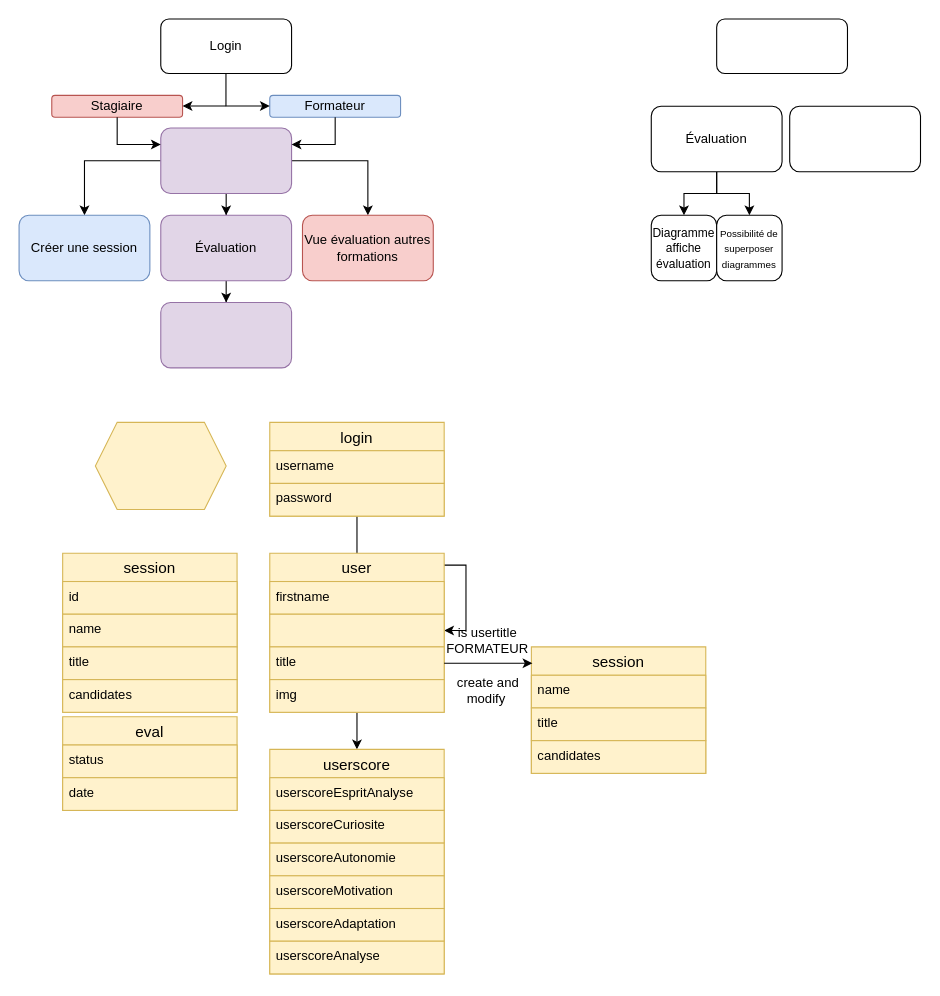
Some shapes in this 940 by 996 pixel diagram are drawn without their labels. The shapes that lost their labels are listed below. From the top down, each one's centre as x and y in pixels, then its label:
the point at 781,46: MVP (Minimum Viable Product)
the point at 855,138: Formateur possibilité de créer une session
the point at 226,160: Choix
the point at 226,334: Vue évaluations précédentes
the point at 160,465: API Calls and DB structure
the point at 356,630: lastname
